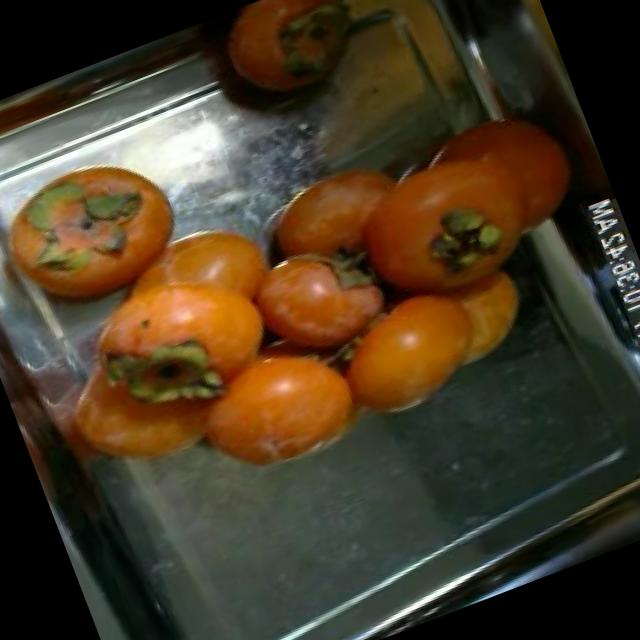Fruit: (380, 68, 620, 286), (212, 214, 416, 396), (198, 0, 384, 128)
